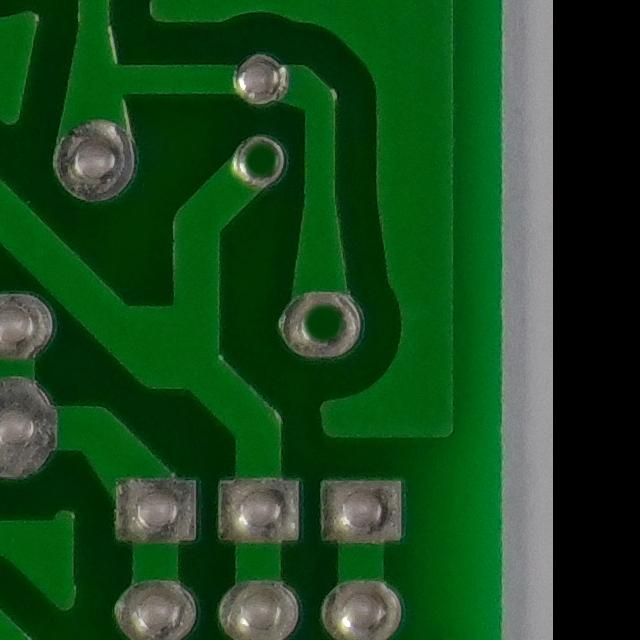missing_hole: (275, 282, 365, 358)
